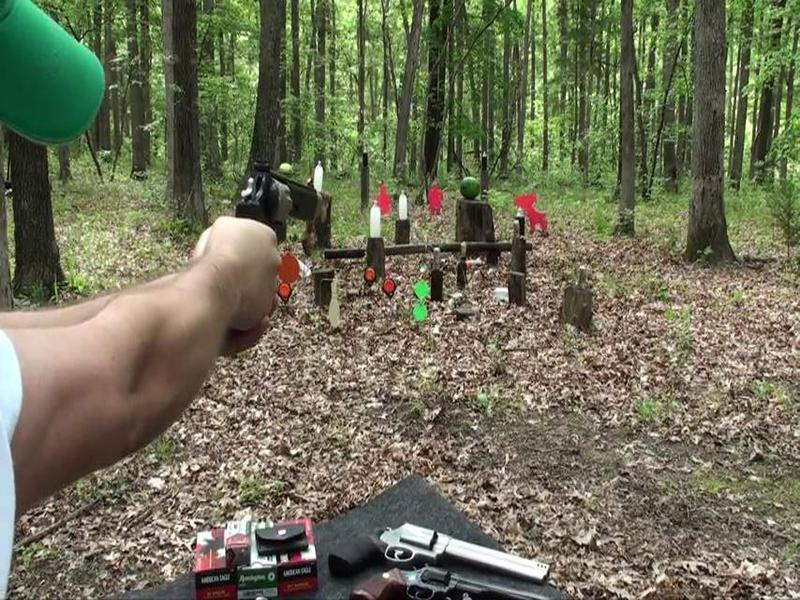Revolver: (233, 157, 337, 282)
